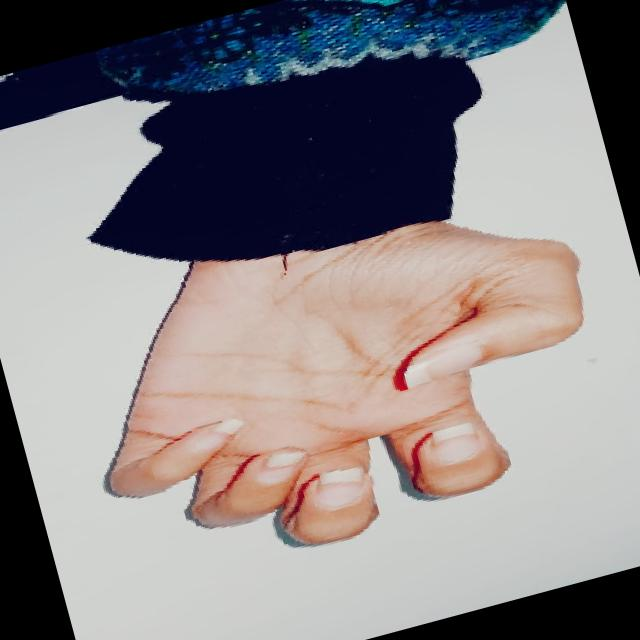Nail: (401, 343, 480, 389), (312, 465, 364, 507), (428, 421, 479, 461), (255, 449, 305, 485), (196, 415, 246, 448)
